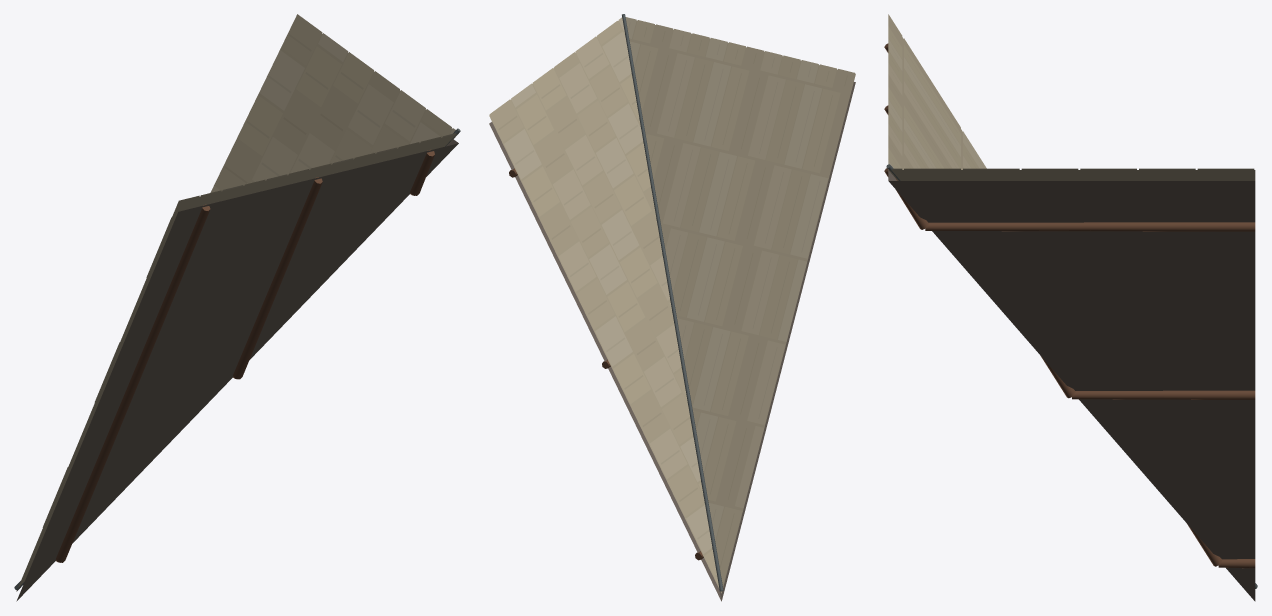
Rendered from Roof_Valley_60.glb.
The picture shows the model from 3 angles, left to right: view 1: azimuth 30°, elevation 25°; view 2: azimuth 150°, elevation 25°; view 3: azimuth 270°, elevation 25°; orthographic projection. The views are drawn at different scales.
Visible parts, largest first — view 1: _MeshInstance3D_3587, _MeshInstance3D_3589, _MeshInstance3D_3591; view 2: _MeshInstance3D_3587, _MeshInstance3D_3594; view 3: _MeshInstance3D_3587, _MeshInstance3D_3592, _MeshInstance3D_3590.
Boxes of the visible parts, x1=… form: _MeshInstance3D_3587: x1=16, y1=14, x2=458, y2=601; _MeshInstance3D_3589: x1=56, y1=204, x2=210, y2=562; _MeshInstance3D_3591: x1=233, y1=177, x2=322, y2=379; _MeshInstance3D_3587: x1=489, y1=17, x2=855, y2=601; _MeshInstance3D_3594: x1=622, y1=14, x2=723, y2=591; _MeshInstance3D_3587: x1=888, y1=14, x2=1255, y2=601; _MeshInstance3D_3592: x1=925, y1=222, x2=1255, y2=231; _MeshInstance3D_3590: x1=1072, y1=390, x2=1255, y2=399.
Size of the model in its own units: 3.04 by 5.34 by 3.05.
